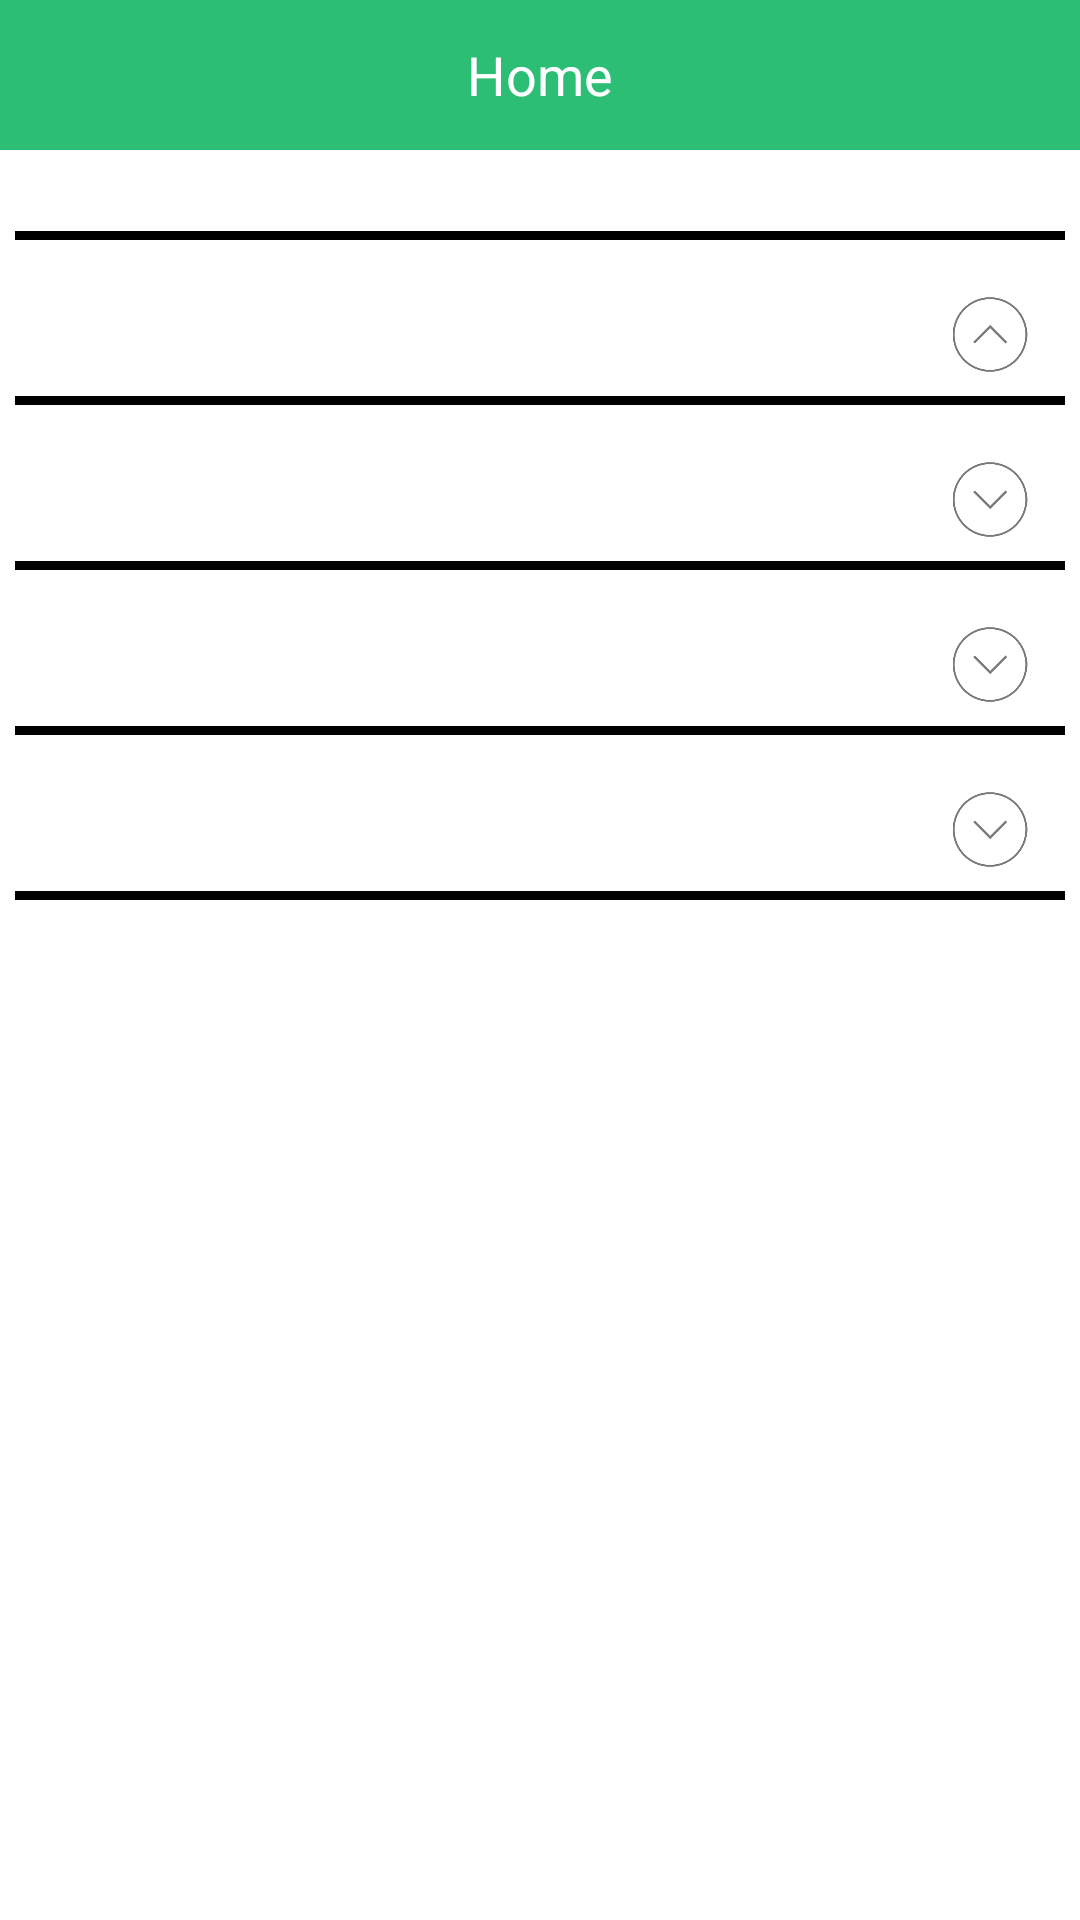

Named icons in this screenshot (1080px×1920px) and their centers, [x,y]:
down: [990,499], [990,664], [990,829]
